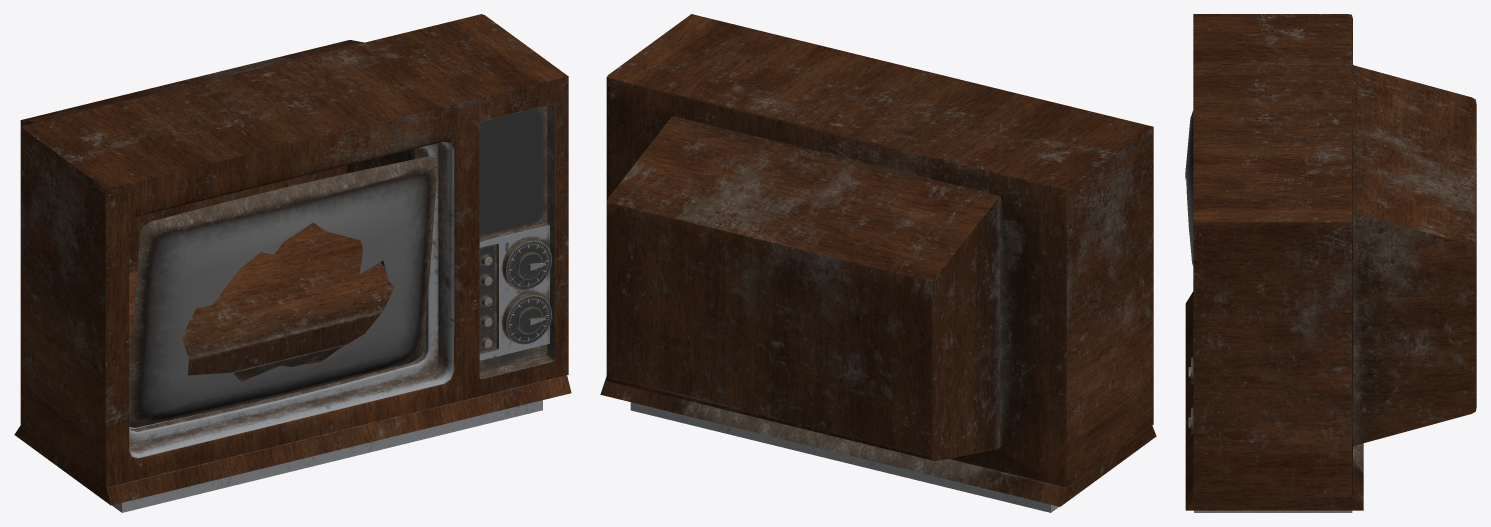
File: BrokenTv.fbx
3 renders of one model, left to right at view 1: azimuth 30°, elevation 25°; view 2: azimuth 150°, elevation 25°; view 3: azimuth 270°, elevation 25°, orthographic. The views are drawn at different scales.
Visible parts, largest first — view 1: TV, TV.001; view 2: TV; view 3: TV, TV.001.
Boxes of the visible parts, x1,y1,x2,y2 form: TV: (14,14,571,512); TV.001: (129,156,437,427); TV: (600,14,1156,512); TV: (1185,14,1476,512); TV.001: (1185,110,1193,265).
Bounding box in the file's own units: 31.64 × 21.42 × 18.73.
1 material, 1 textured.
